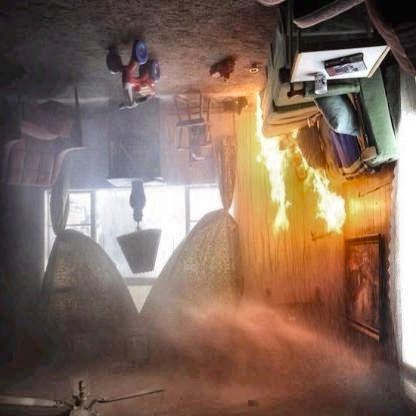fire: (230, 109, 356, 278)
